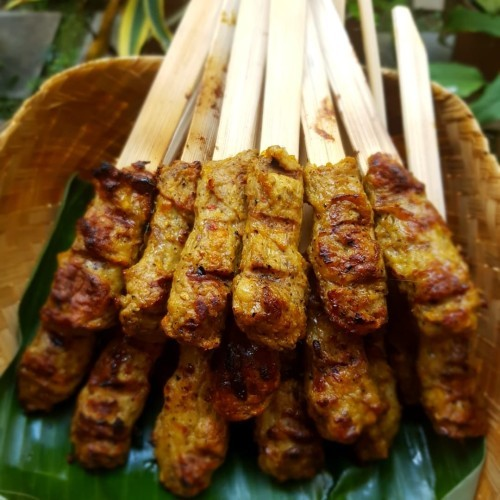sate lilit: (101, 65, 455, 448)
